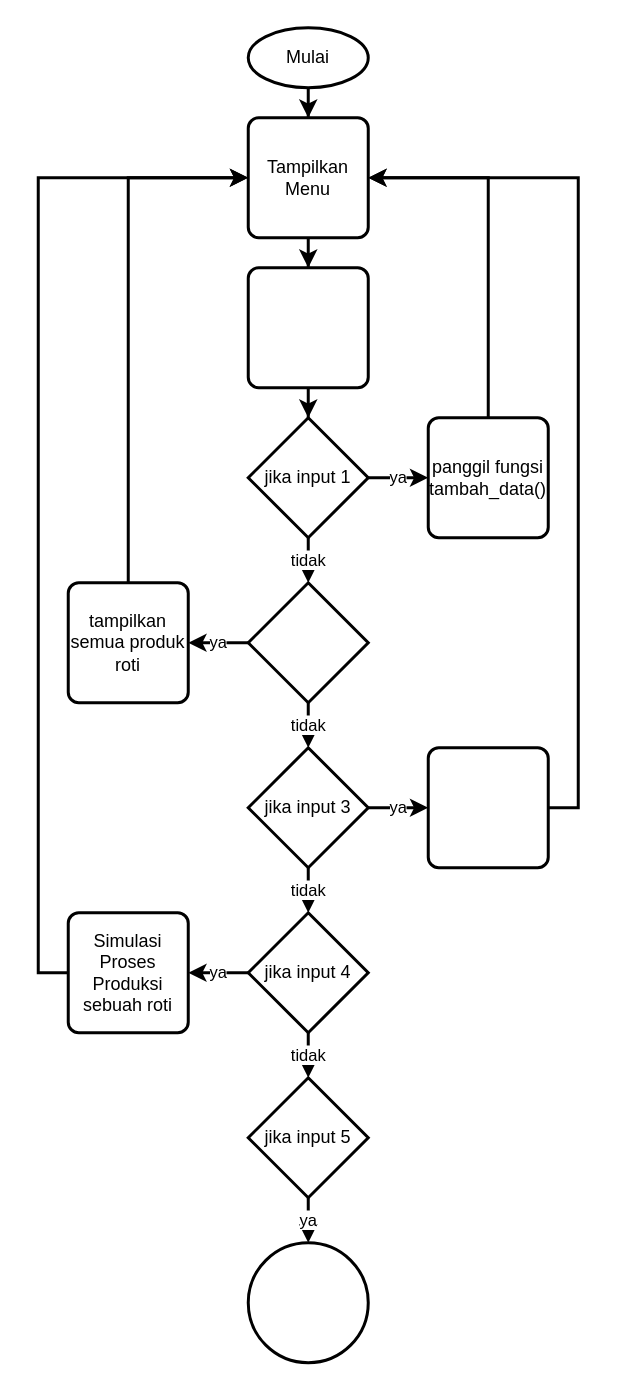
The diagram is 617 pixels wide and 1389 high, and some of its shapes have lost their labels. The shapes that lost their labels are listed below. From the top down, each one's centre as x and y in pixels, then its label:
At point 307,327: "Input pengguna".
At point 307,642: "jika input 2".
At point 487,807: "perhitungan profit bakery".
At point 307,1302: "Stop".
